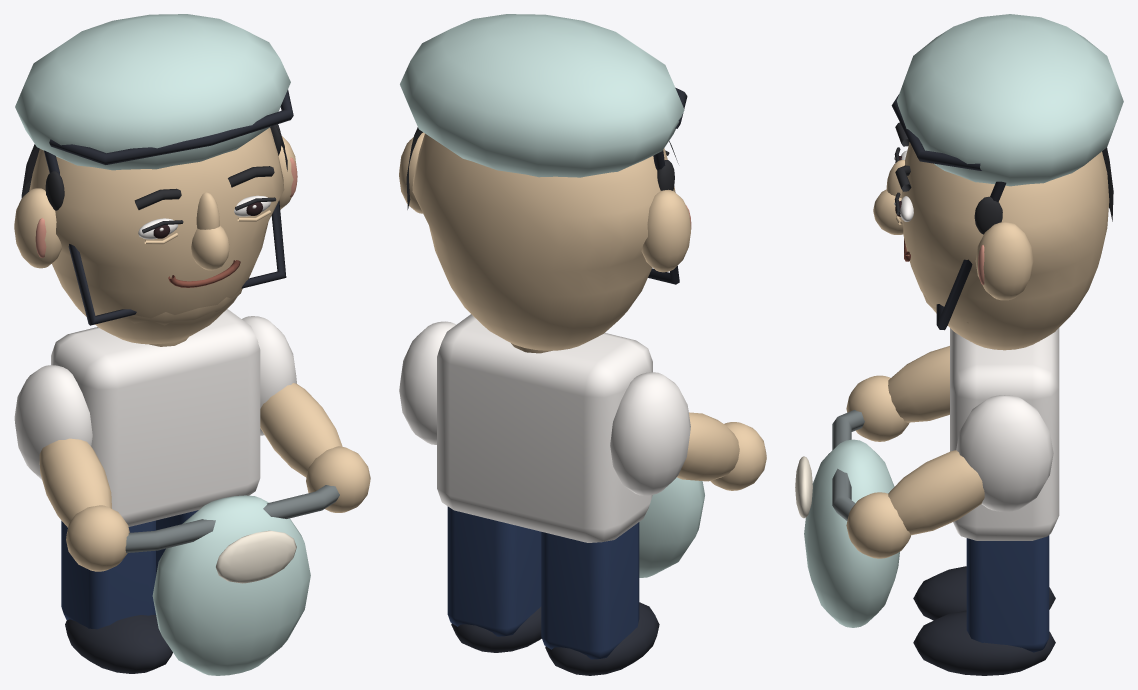
Rendered from longlong-03.glb.
3 views of the same model, side by side, from view 1: azimuth 30°, elevation 25°; view 2: azimuth 150°, elevation 25°; view 3: azimuth 270°, elevation 25° (orthographic). The views are drawn at different scales.
Visible parts, largest first — view 1: Trousers; view 2: Trousers; view 3: Trousers.
Part boxes in pixels (left/top/right/bottom): Trousers: left=14, top=14, right=370, bottom=675; Trousers: left=399, top=14, right=766, bottom=675; Trousers: left=795, top=14, right=1123, bottom=675.
Size of the model in its own units: 1.53 by 3 by 1.47.
2 materials, 2 textured.
